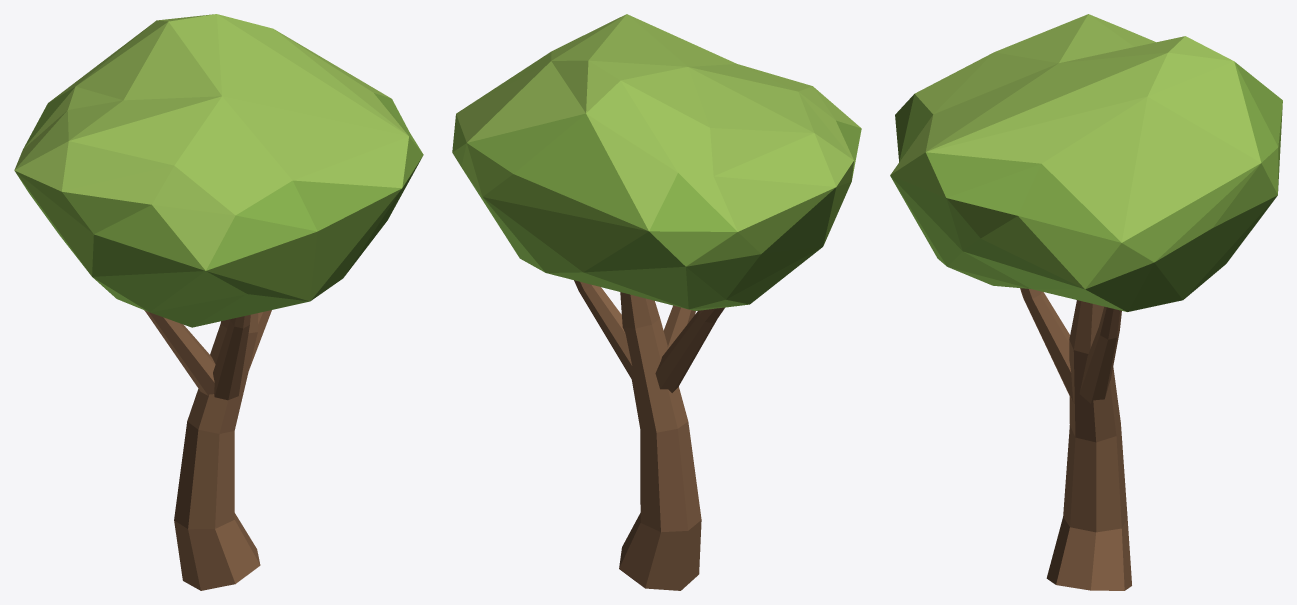
File: WR_Env_Tree_Broadleaf_03.glb
3 views of the same model, side by side, from view 1: azimuth 30°, elevation 25°; view 2: azimuth 150°, elevation 25°; view 3: azimuth 270°, elevation 25° (orthographic). The views are drawn at different scales.
Parts seen in each view (by area): view 1: Broadleaf_CONNECTED_Foliage, Broadleaf_TaperedTrunk, Broadleaf_Branch_0, Broadleaf_Branch_2; view 2: Broadleaf_CONNECTED_Foliage, Broadleaf_TaperedTrunk, Broadleaf_Branch_0, Broadleaf_Branch_1, Broadleaf_Branch_2; view 3: Broadleaf_CONNECTED_Foliage, Broadleaf_TaperedTrunk, Broadleaf_Branch_1, Broadleaf_Branch_2.
Boxes of the visible parts, <box> form: Broadleaf_CONNECTED_Foliage: <box>14,14,423,327</box>; Broadleaf_TaperedTrunk: <box>174,313,260,590</box>; Broadleaf_Branch_0: <box>144,310,215,395</box>; Broadleaf_Branch_2: <box>213,315,250,400</box>; Broadleaf_CONNECTED_Foliage: <box>452,14,861,310</box>; Broadleaf_TaperedTrunk: <box>619,292,701,590</box>; Broadleaf_Branch_0: <box>655,307,724,392</box>; Broadleaf_Branch_1: <box>574,280,632,378</box>; Broadleaf_Branch_2: <box>663,305,695,348</box>; Broadleaf_CONNECTED_Foliage: <box>890,14,1282,311</box>; Broadleaf_TaperedTrunk: <box>1046,300,1131,590</box>; Broadleaf_Branch_1: <box>1079,306,1121,403</box>; Broadleaf_Branch_2: <box>1020,288,1073,401</box>.
Size of the model in its own units: 1.84 by 2.44 by 1.56.
